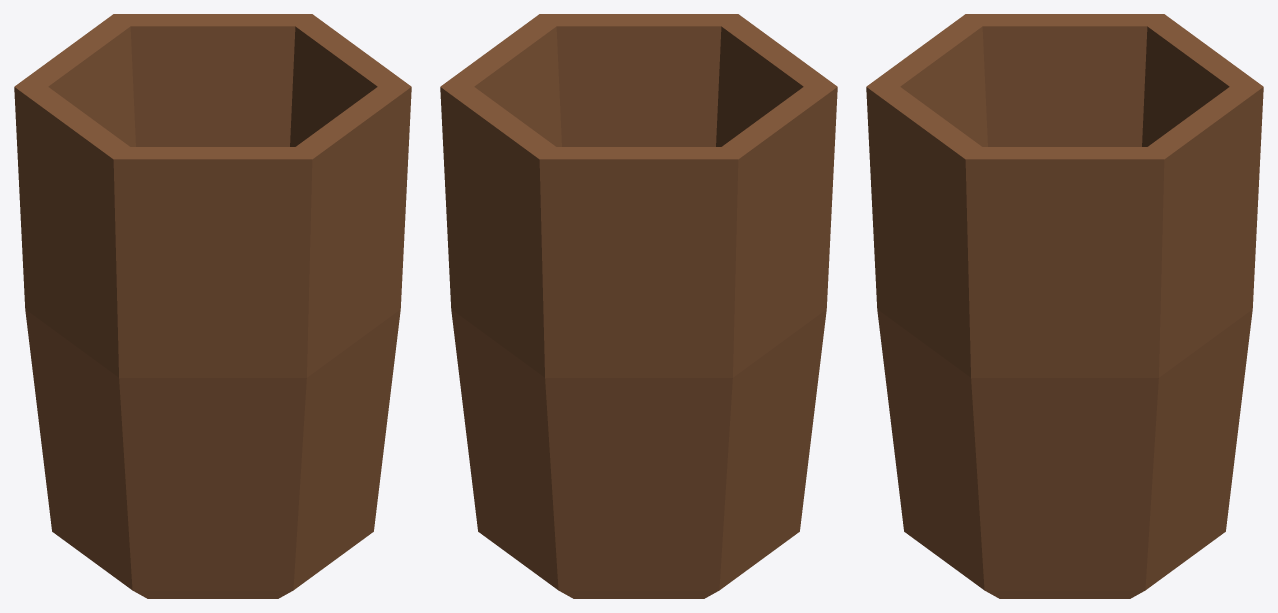
The model's file is Done_Cup.glb.
3 renders of one model, left to right at view 1: azimuth 30°, elevation 25°; view 2: azimuth 150°, elevation 25°; view 3: azimuth 270°, elevation 25°, orthographic.
Visible parts, largest first — view 1: Cup; view 2: Cup; view 3: Cup.
Part boxes in pixels (x1,y1,x2,y2): Cup: (14,14,411,598); Cup: (440,14,837,598); Cup: (866,14,1263,598).
Bounding box in the file's own units: 0.2212 × 0.3292 × 0.2554.
